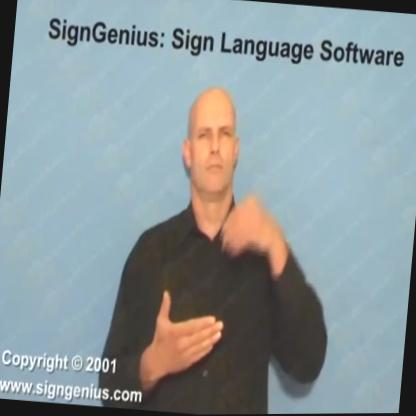Expensive: (146, 181, 302, 396)
